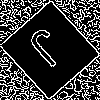J: (25, 25, 75, 78)
